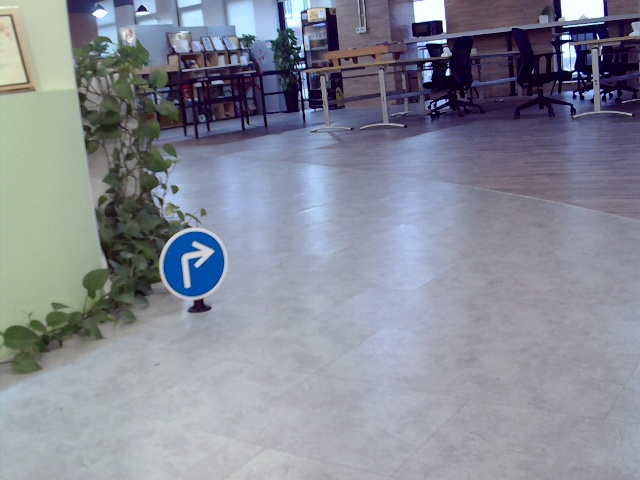turn_right: (176, 240, 216, 291)
